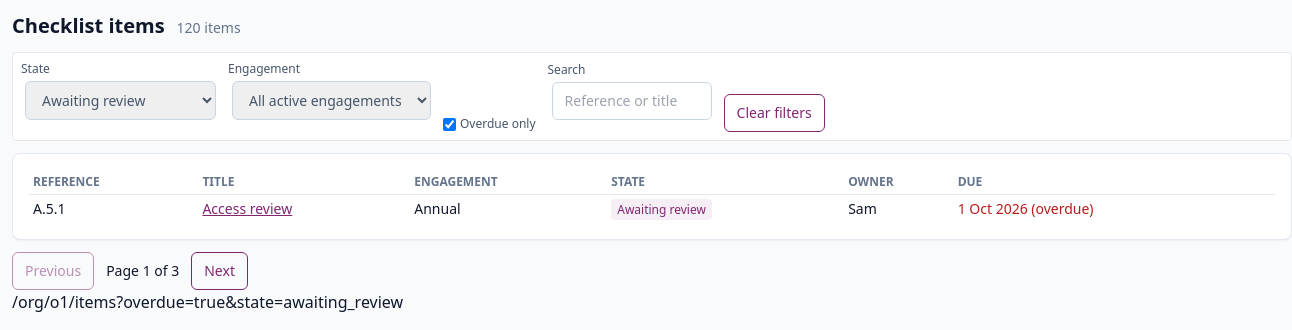
Test case: items page: filters come from the link, the count is shown, rows link to the item, paging works
Later steps or results of the test are not shown.
Check: the text named "Count" reads "120 items", box left=177, top=18, right=241, bottom=38
Check: the dropdown labelled "State" shows "Awaiting review", box left=25, top=81, right=216, bottom=120
Click the button "Next". click: click(220, 271)
box: left=191, top=252, right=248, bottom=290
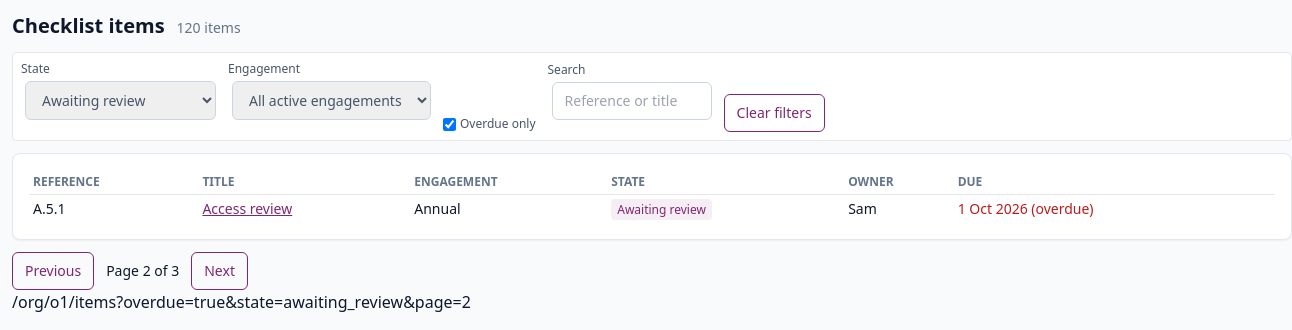
Check: the text with test id "loc" shows "page=2", box left=12, top=291, right=471, bottom=313
